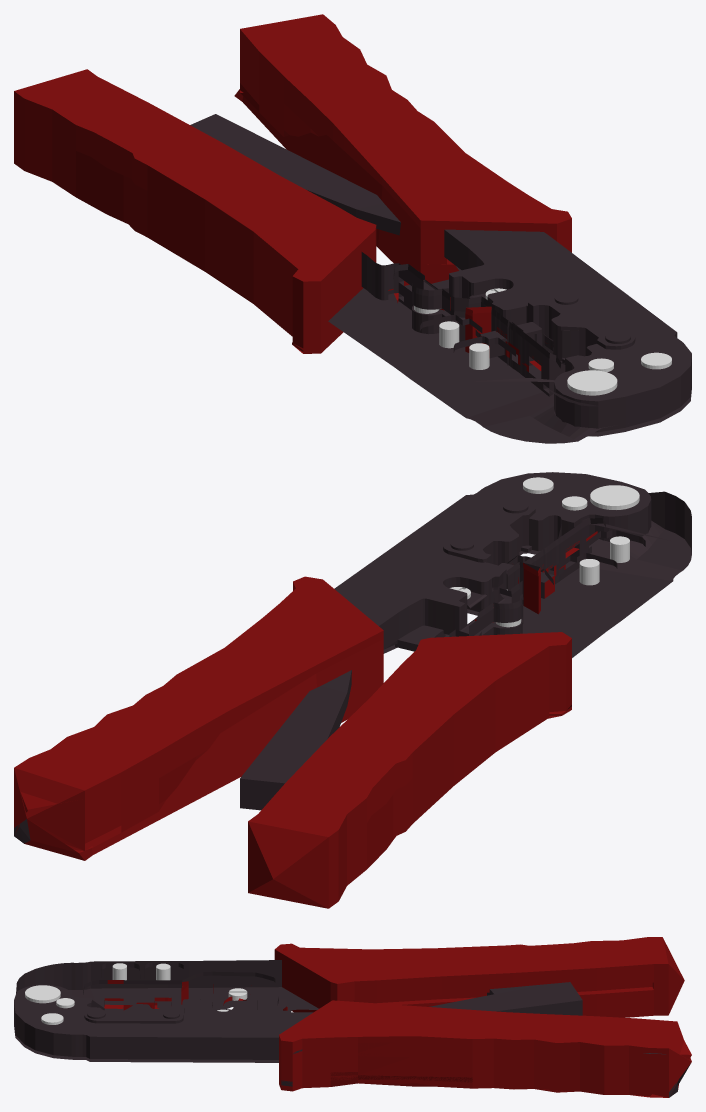
The model's file is crimper rj45 - 2.fbx.
3 renders of one model, top to bottom at view 1: azimuth 30°, elevation 25°; view 2: azimuth 150°, elevation 25°; view 3: azimuth 270°, elevation 25°, orthographic. The views are drawn at different scales.
Parts seen in each view (by area): view 1: Plane.001, Plane, Cylinder.001; view 2: Plane, Plane.001, Cylinder.001; view 3: Plane, Plane.001, Cylinder.001.
Boxes of the visible parts, x1,y1,x2,y2 form: Plane.001: [14, 69, 614, 443]; Plane: [190, 14, 691, 436]; Cylinder.001: [439, 321, 671, 436]; Plane: [14, 472, 651, 860]; Plane.001: [248, 491, 691, 908]; Cylinder.001: [523, 477, 639, 585]; Plane: [14, 982, 691, 1097]; Plane.001: [16, 937, 684, 1017]; Cylinder.001: [25, 963, 170, 1024].
Bounding box in the file's own units: 185 × 41.37 × 486.
